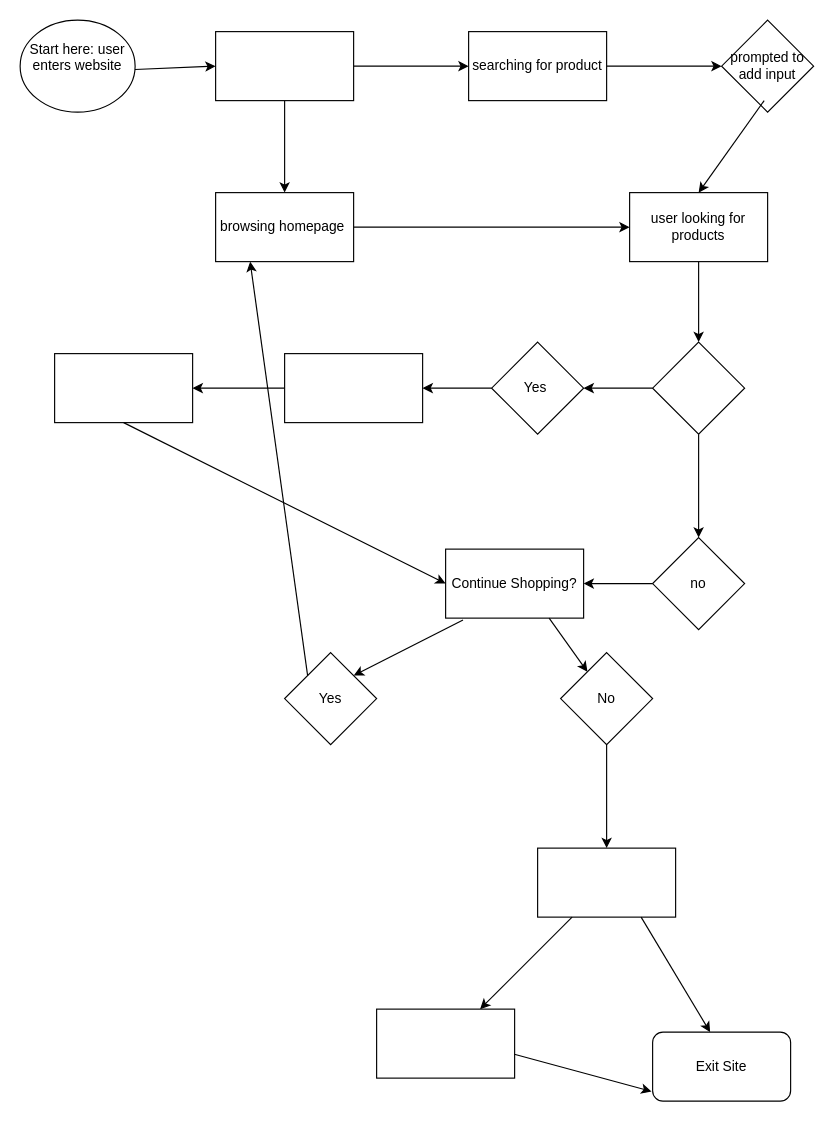
The diagram is 834 pixels wide and 1121 high, and some of its shapes have lost their labels. The box of each missing label's shape, as (x1, y1, x2, y2) in pixels:
Add to Cart?: (53, 352, 193, 423)
Checkout: (536, 847, 676, 917)
Open Product Page: (283, 352, 423, 423)
Show homepage: (214, 30, 354, 101)
View Cart ->View Payment->Enter info->Confimration: (375, 1008, 515, 1078)
View specific product?: (651, 341, 745, 434)
